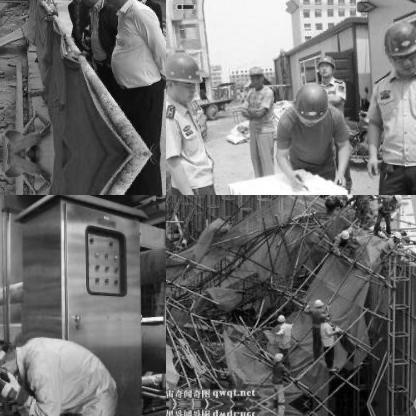Helmet: (166, 48, 201, 104), (381, 19, 415, 76), (290, 80, 330, 124), (0, 332, 18, 376), (316, 54, 336, 76), (247, 64, 264, 86), (272, 308, 288, 324), (387, 227, 403, 243), (270, 348, 284, 364), (336, 226, 350, 242), (312, 296, 324, 310), (386, 195, 403, 204), (317, 310, 331, 320)
